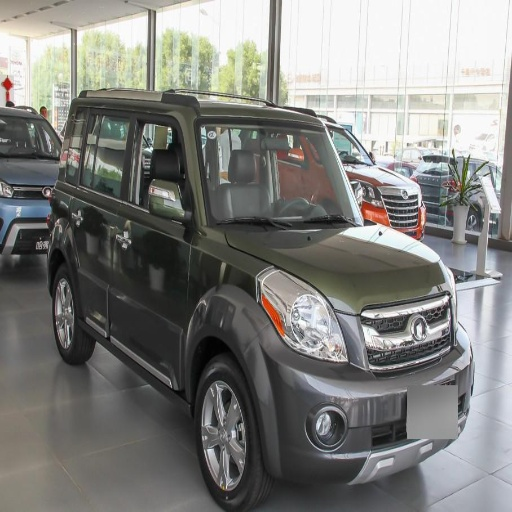front_bumper: (251, 293, 472, 479)
front_right_door: (111, 114, 196, 374)
front_right_light: (259, 269, 350, 361)
